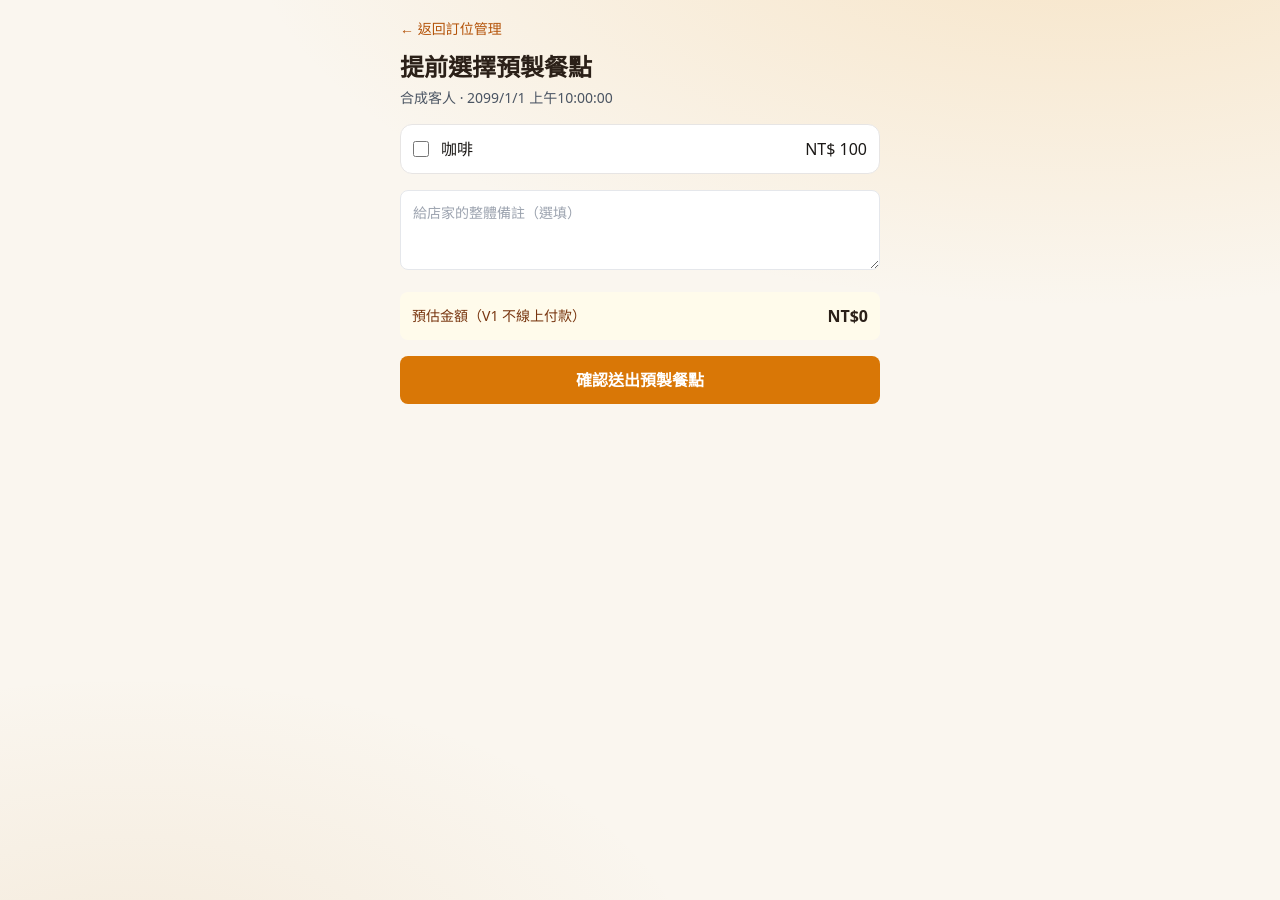
Test case: guest preorder recovery › does not show current menu or option prices as historical prices
Click the checkbox named "選擇咖啡": (421, 149) [413,141,429,157]
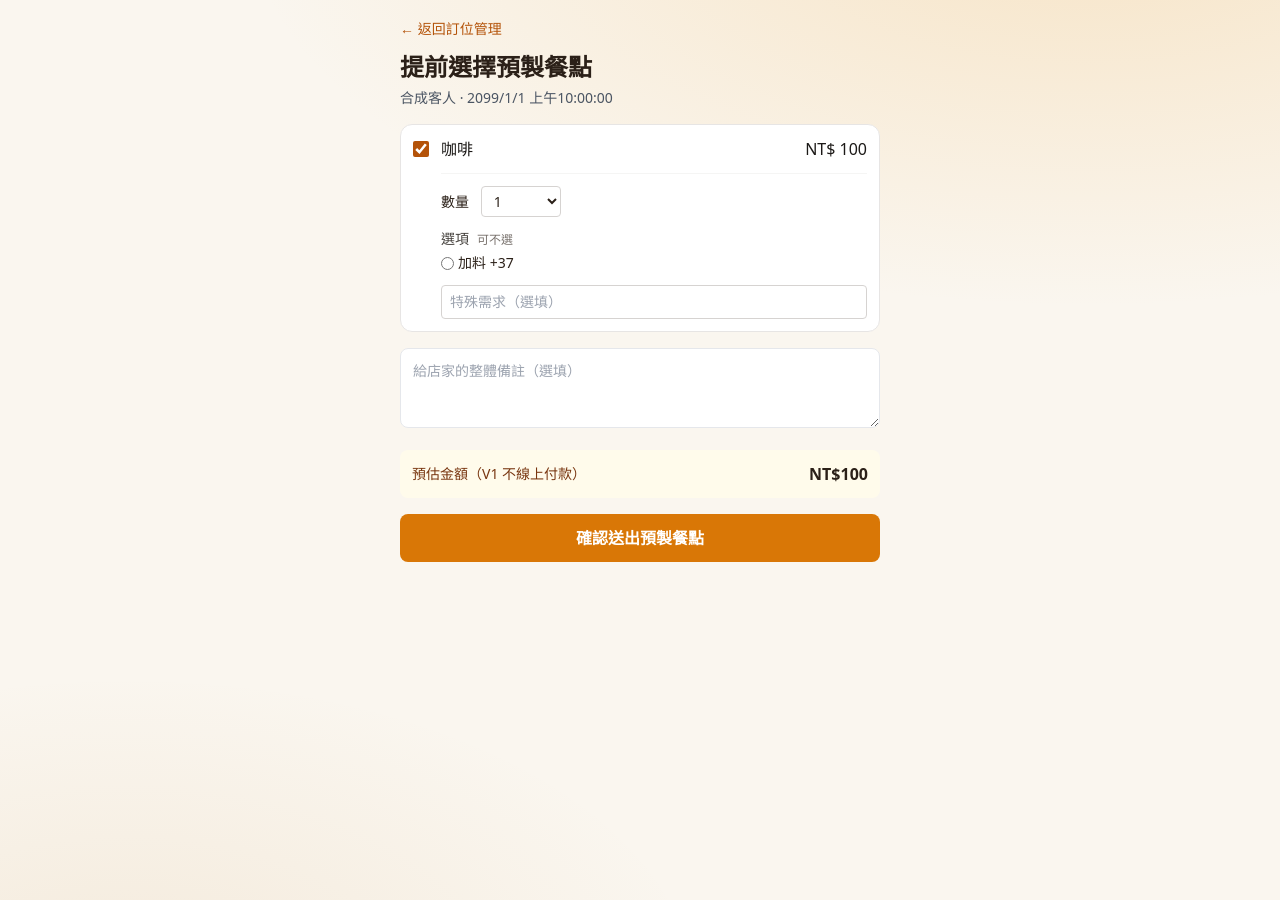
Expected: the text "NT$ 100" is shown, [805,137,867,161]
Expected: the text "加料 +37" is shown, [441,253,514,273]
Click the button "確認送出預製餐點": (640, 538) [400,514,880,562]
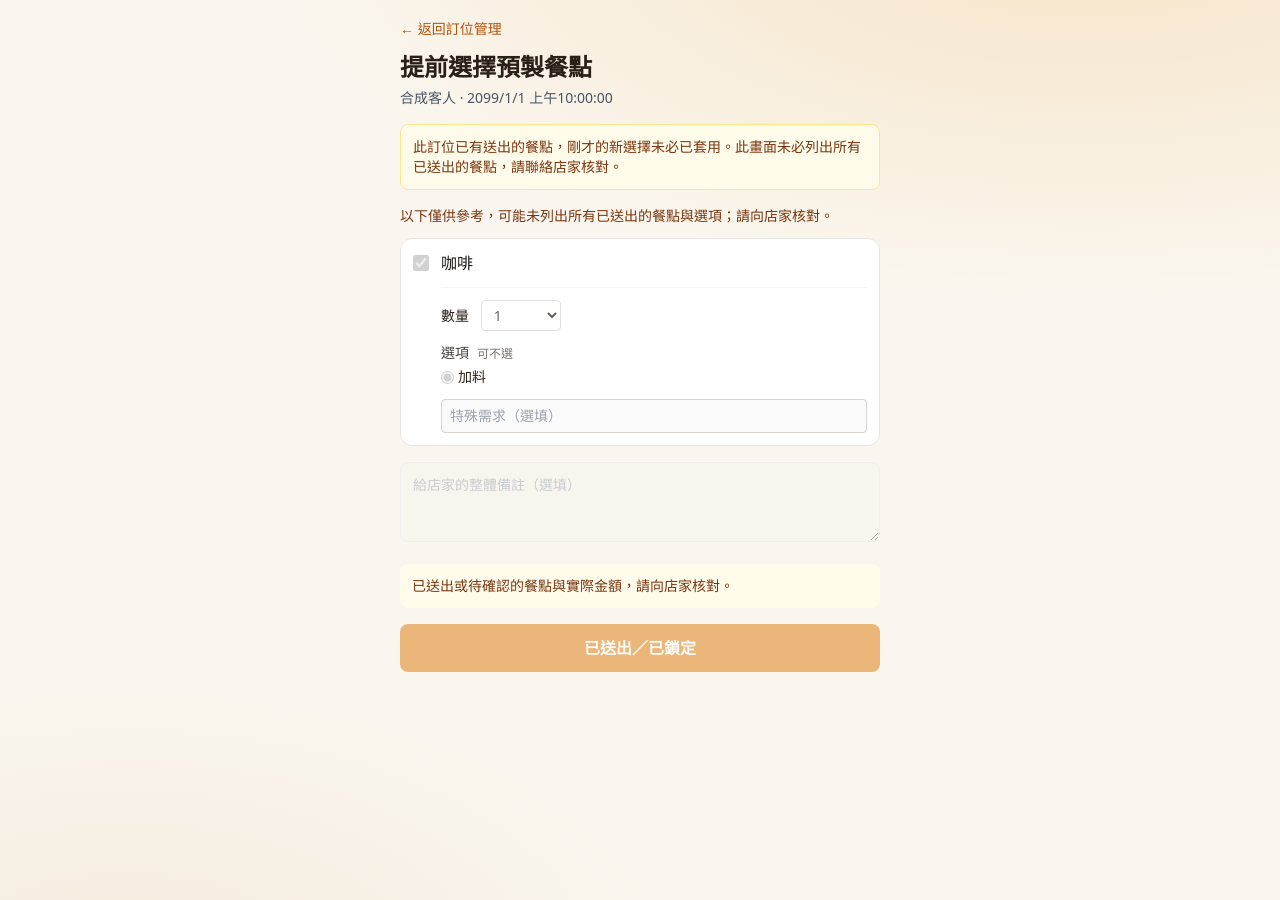
Expected: the message "此訂位已有送出的餐點，剛才的新選擇未必已套用。此畫面未必列出所有已送出的餐點，請聯絡店家核對。" is shown, [400,124,880,190]
Expected: the text "NT$" is gone
Expected: the text "+37" is gone
